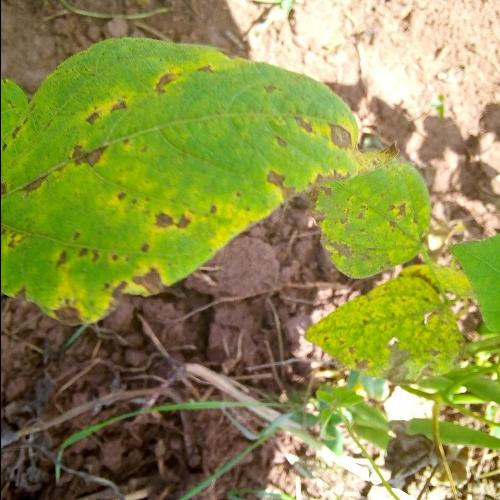hawar: (21, 62, 359, 234)
